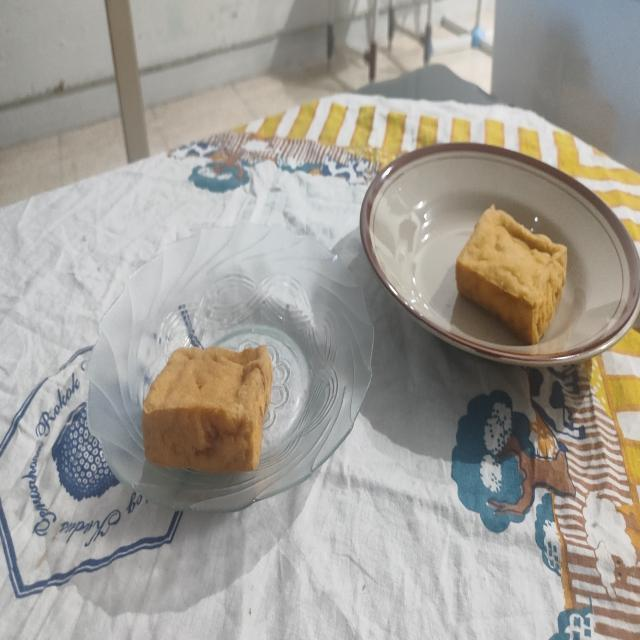tahu_goreng: (142, 346, 273, 472), (456, 204, 567, 344)
